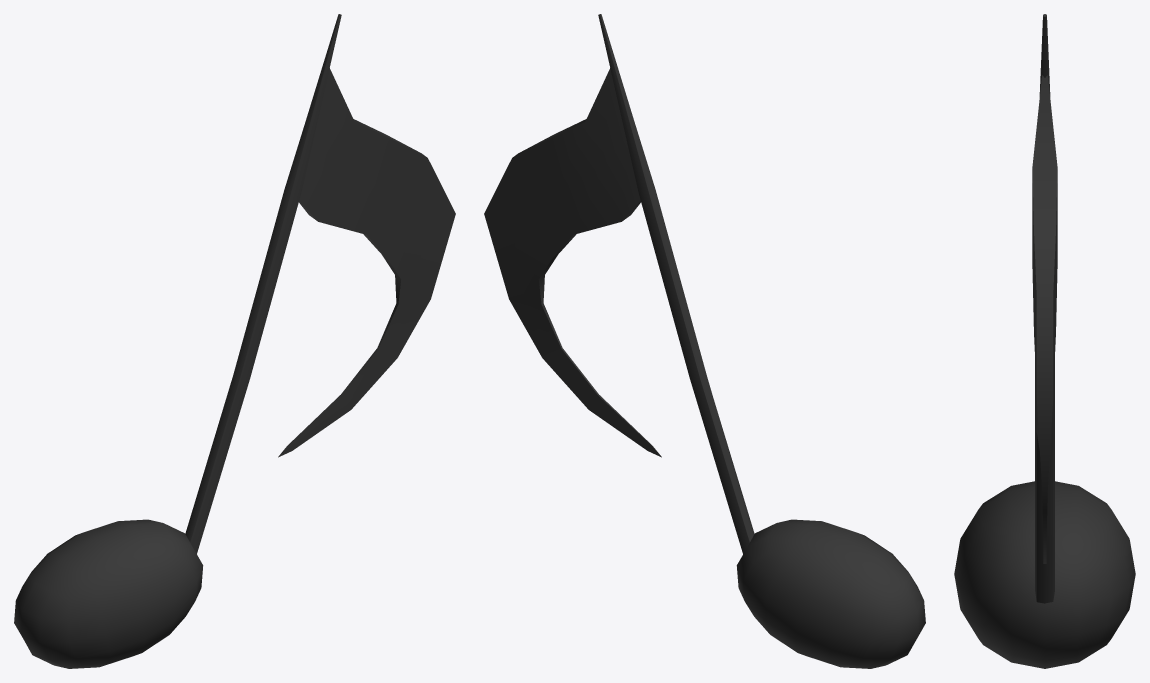
File: note1.fbx
3 renders of one model, left to right at view 1: azimuth 30°, elevation 25°; view 2: azimuth 150°, elevation 25°; view 3: azimuth 270°, elevation 25°, orthographic. The views are drawn at different scales.
Parts seen in each view (by area): view 1: pCube4; view 2: pCube4; view 3: pCube4.
Part boxes in pixels (x1=…): pCube4: x1=14, y1=14, x2=455, y2=668; pCube4: x1=484, y1=14, x2=925, y2=668; pCube4: x1=954, y1=14, x2=1135, y2=668.
Size of the model in its own units: 4.37 by 5.68 by 1.17.
Materials: 1 (1 with a texture image).
